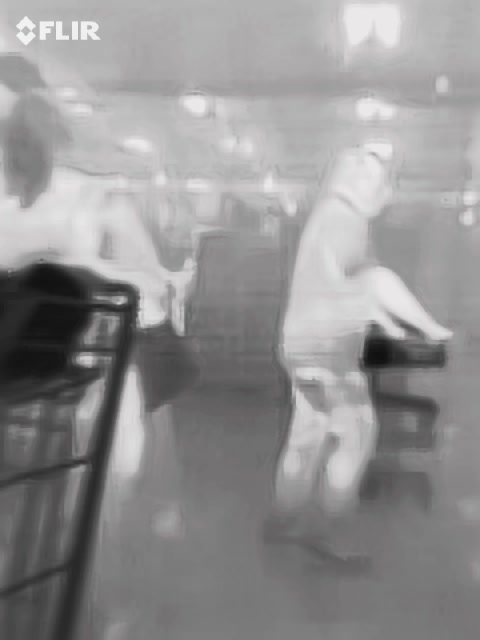head: (1, 59, 43, 186), (322, 148, 393, 220)
